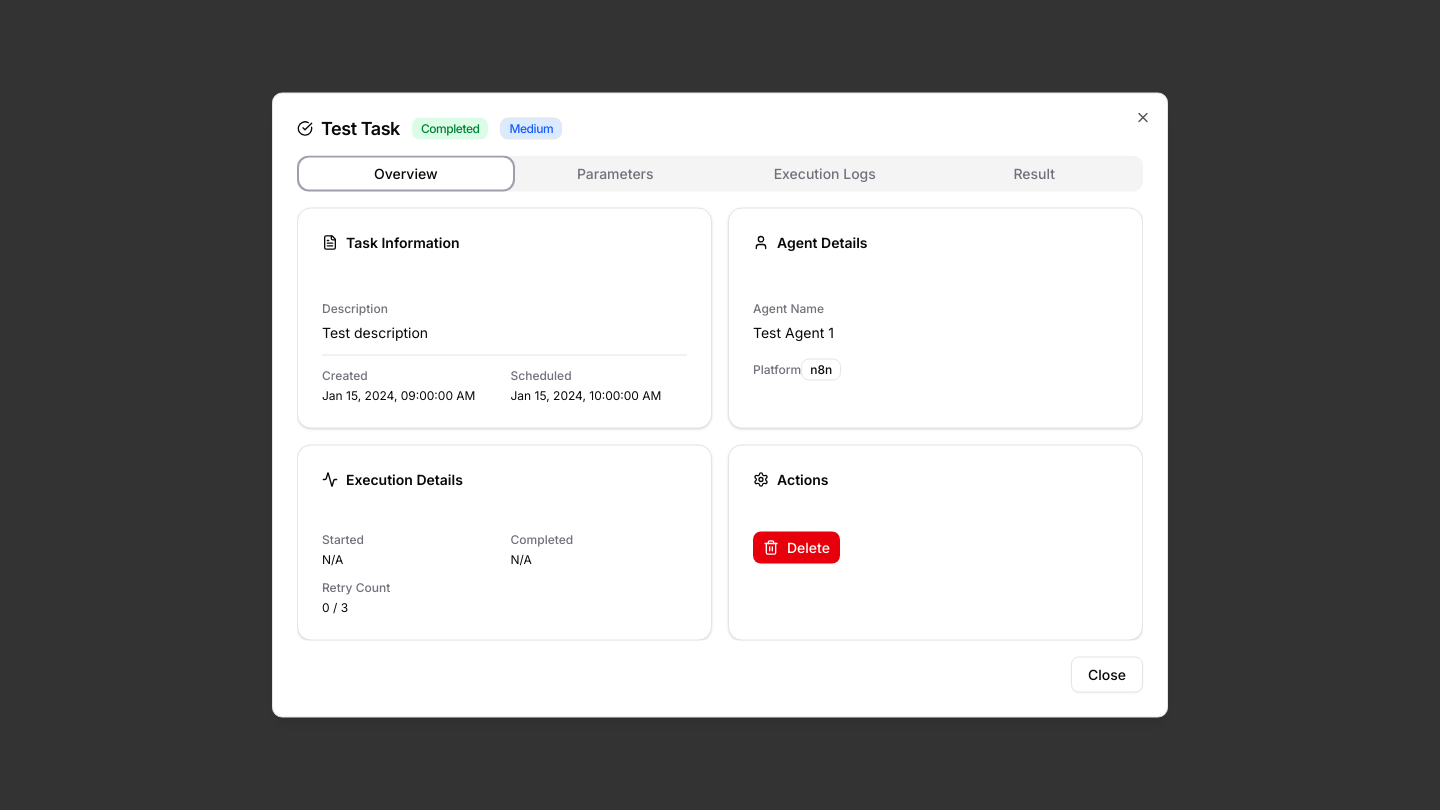
Scenario: TaskDetailModal › displays result in result tab
Click the tab "Result": (1034,174) [930,160,1139,188]
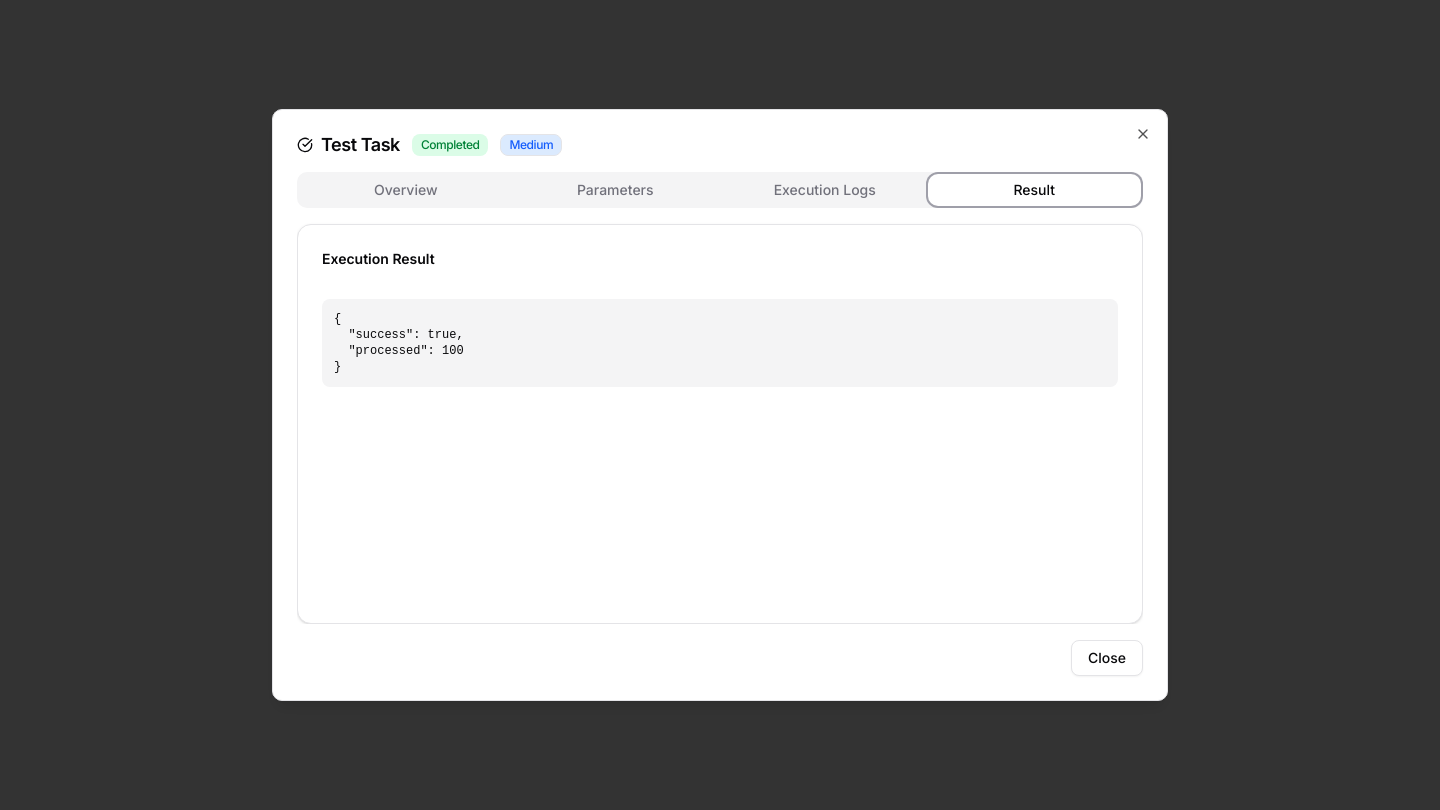
Now the text "{ \"success\": true, \"processed\": 100 }" is shown, box [322,299,1118,387]
